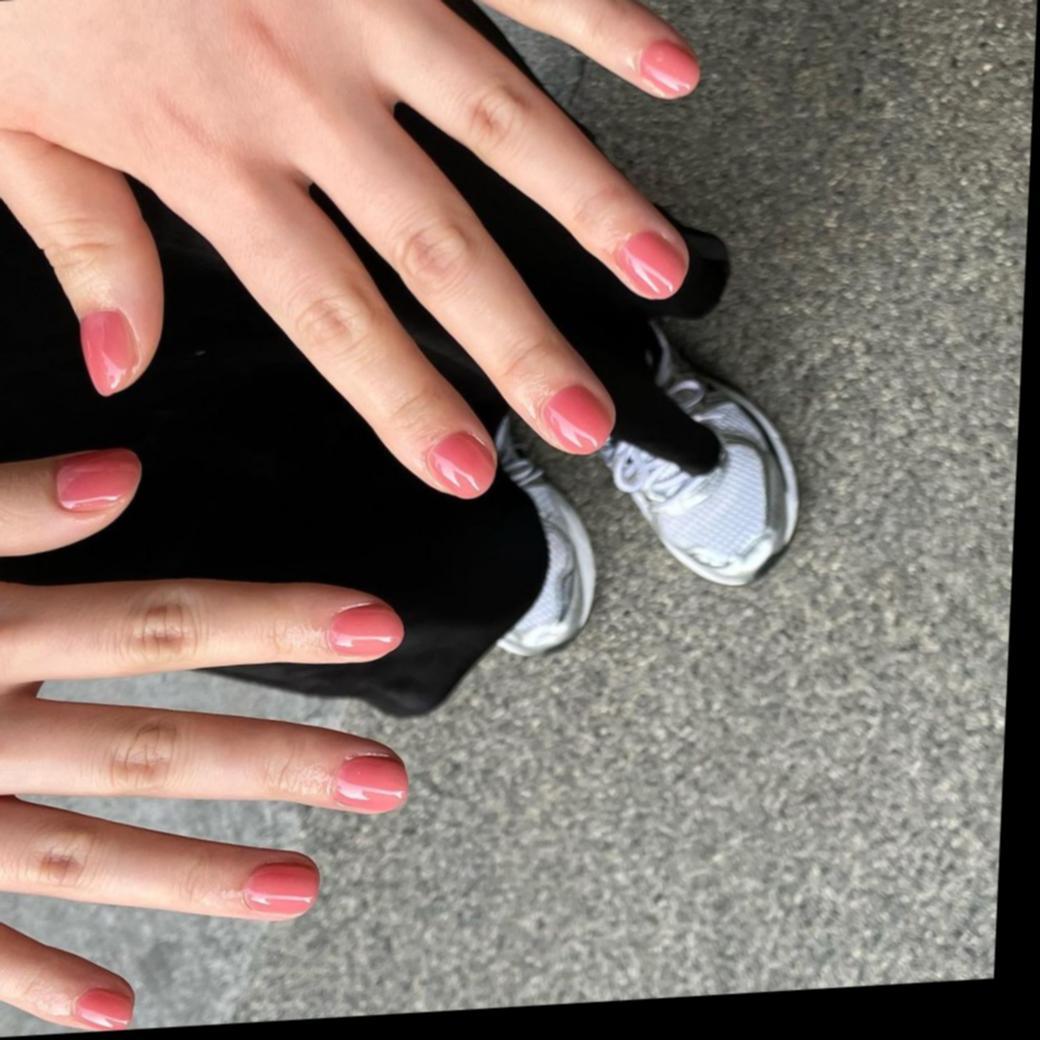nail: (536, 379, 616, 457), (75, 304, 142, 396), (52, 444, 142, 512), (611, 224, 690, 301), (423, 427, 499, 499), (330, 750, 410, 813), (325, 598, 406, 659), (240, 857, 321, 916), (635, 35, 703, 97), (72, 982, 134, 1033)
